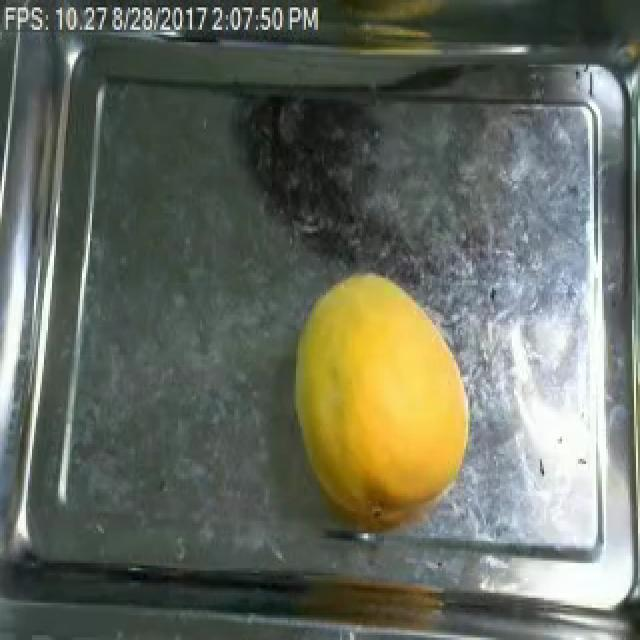fruit: (272, 261, 484, 544)
